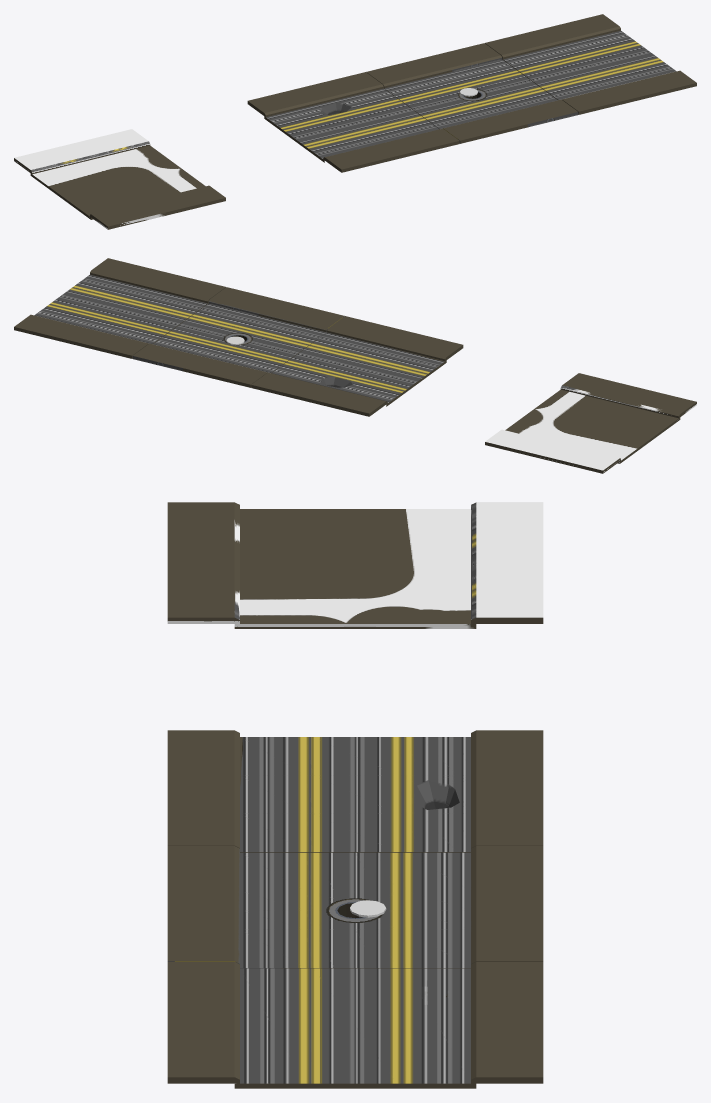
The model's file is RuaBuraco.fbx.
The picture shows the model from 3 angles, top to bottom: view 1: azimuth 30°, elevation 25°; view 2: azimuth 150°, elevation 25°; view 3: azimuth 270°, elevation 25°; orthographic projection. The views are drawn at different scales.
Visible parts, largest first — view 1: Rua(1).001, Rua(3), Rua(1), Rua(2); view 2: Rua(1).001, Rua(3), Rua(1), Rua(2); view 3: Rua(1), Rua(1).001, Rua(3), Rua(2).
Boxes of the visible parts, box(x1,y1,x2,y2) form: Rua(1).001: box(14, 129, 225, 229); Rua(3): box(247, 72, 459, 172); Rua(1): box(485, 14, 696, 114); Rua(2): box(366, 43, 578, 143); Rua(1).001: box(485, 373, 696, 473); Rua(3): box(251, 316, 463, 416); Rua(1): box(14, 258, 225, 358); Rua(2): box(132, 287, 344, 387); Rua(1): box(167, 962, 543, 1088); Rua(1).001: box(167, 502, 543, 628); Rua(3): box(167, 730, 543, 852); Rua(2): box(167, 846, 543, 968).
Bounding box in the file's own units: 7481 × 351 × 2067.
Materials: 3 (3 with a texture image).
